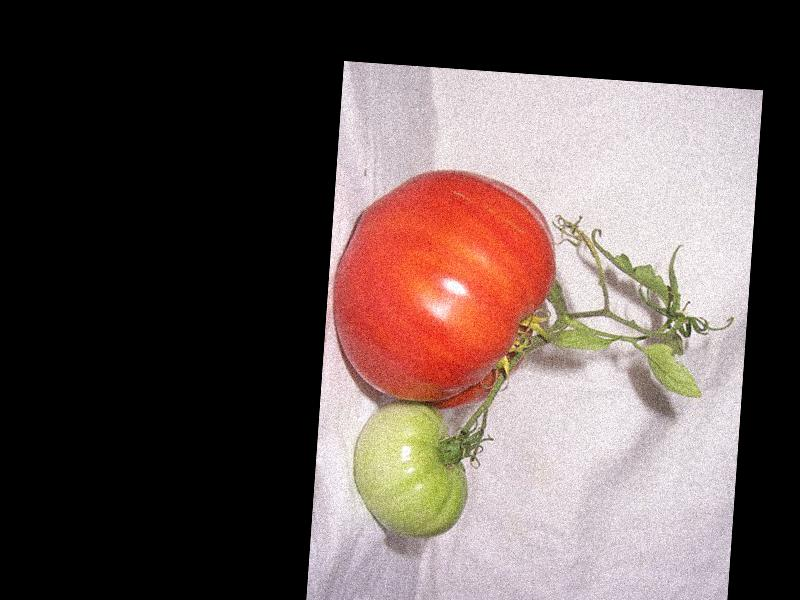Tomato: (327, 162, 562, 416)
